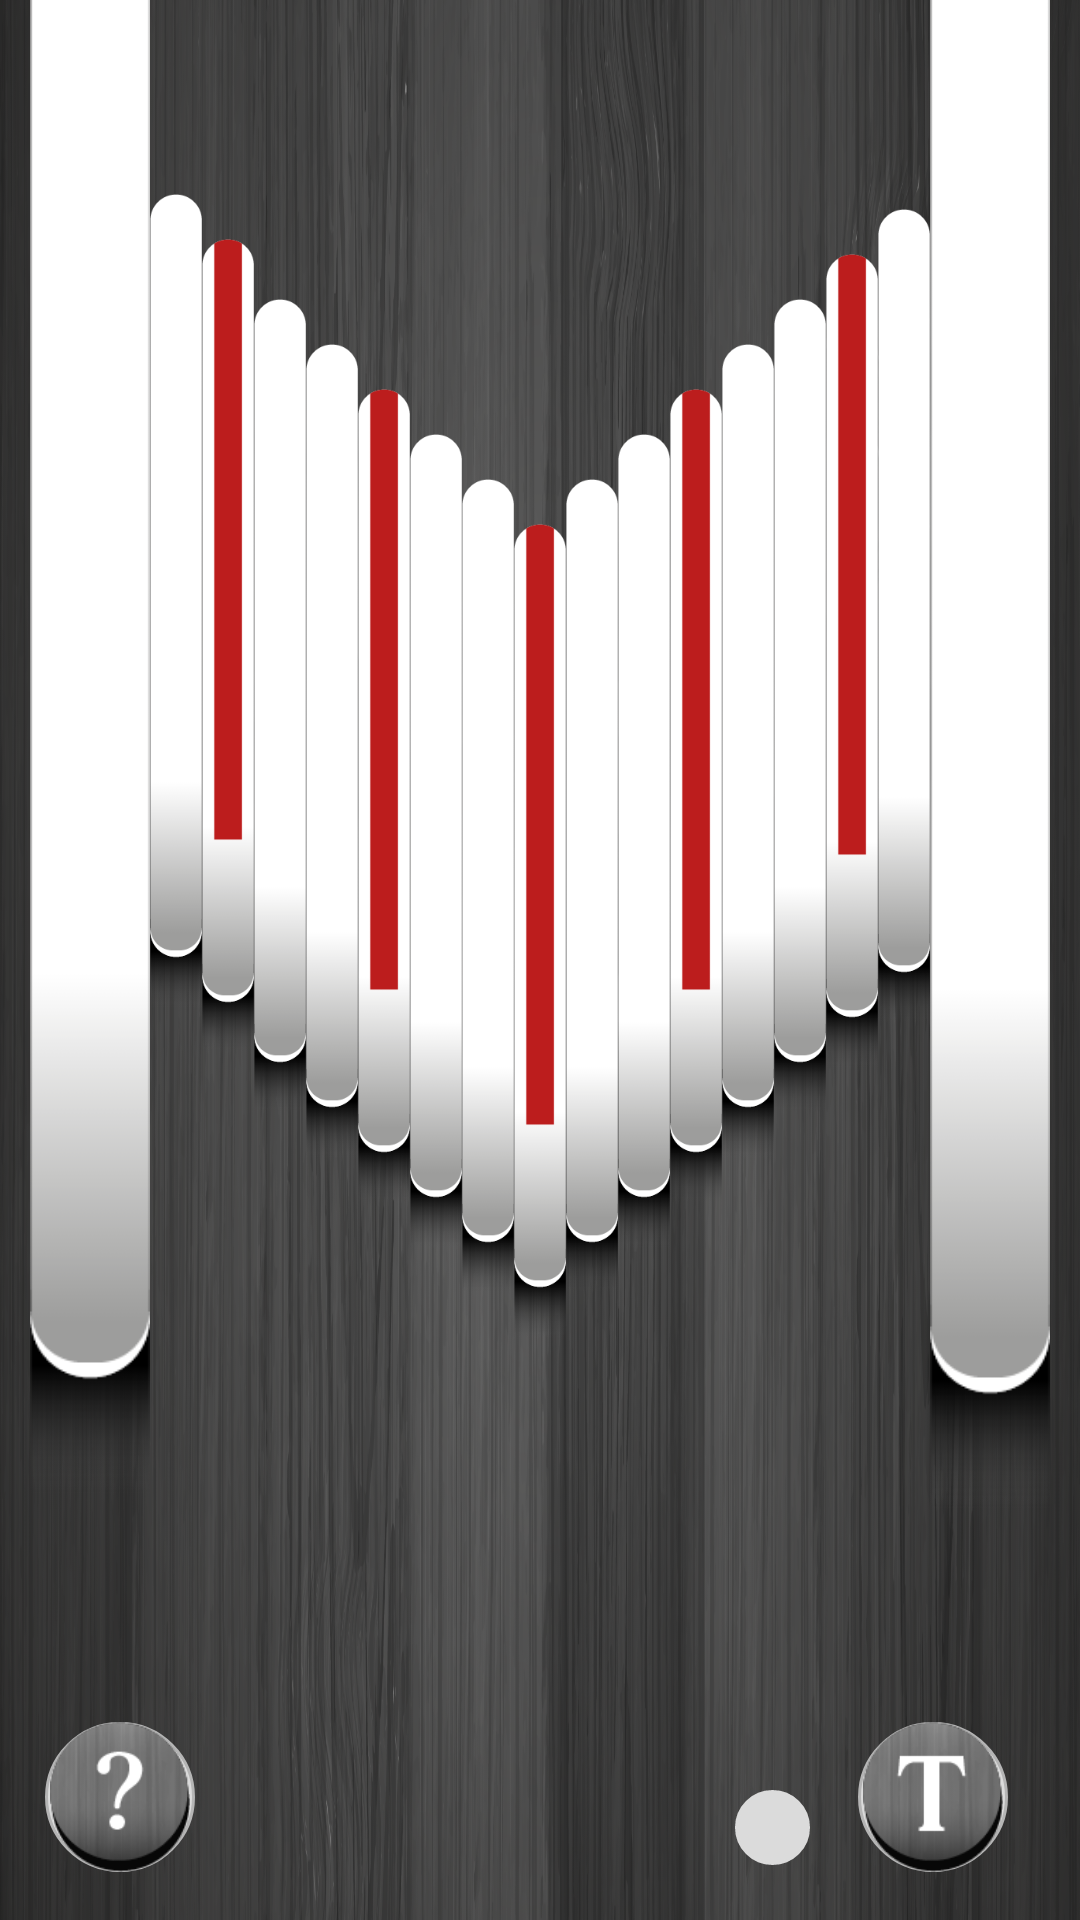

Screen size 1080*1920. Icon name, then its box in pixels as {"left": x1, "top": y1, "right": x2, "bottom": y2}:
help: {"left": 45, "top": 1722, "right": 195, "bottom": 1872}
